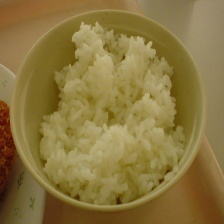rice: (38, 23, 187, 206)
